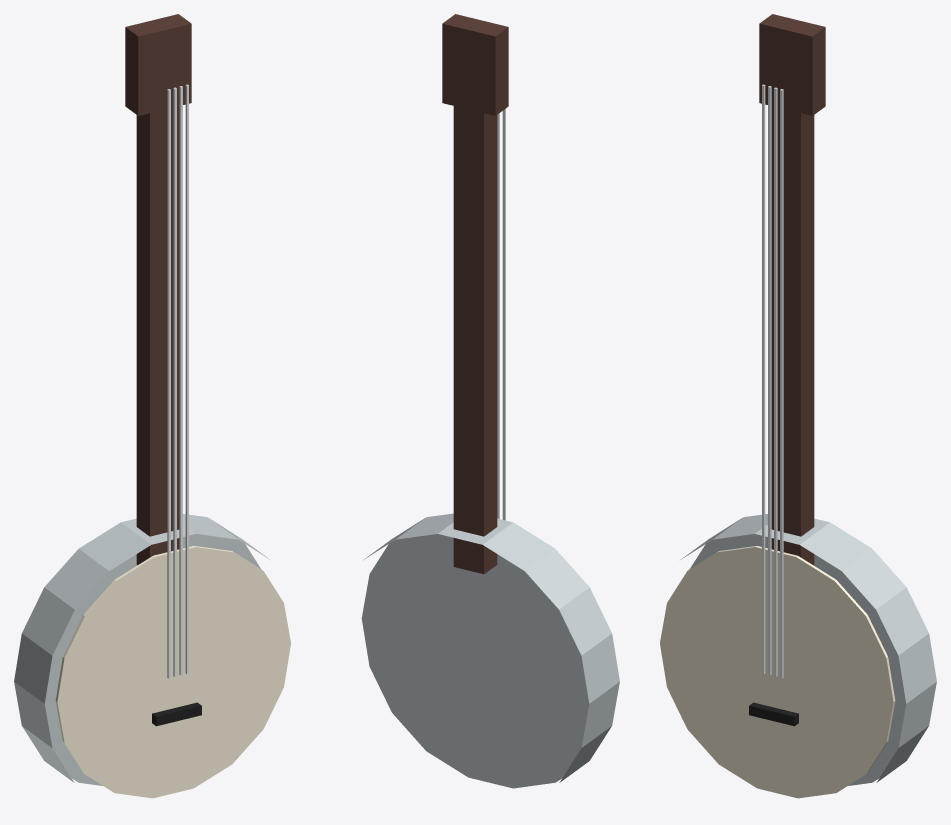
Rendered from banjo.glb.
3 views of the same model, side by side, from view 1: azimuth 30°, elevation 25°; view 2: azimuth 150°, elevation 25°; view 3: azimuth 330°, elevation 25° (orthographic).
Parts seen in each view (by area): view 1: banjo; view 2: banjo; view 3: banjo.
Boxes of the visible parts, bbox=[...] form: banjo: bbox=[14, 14, 290, 798]; banjo: bbox=[361, 14, 619, 788]; banjo: bbox=[660, 14, 936, 798].
Bounding box in the file's own units: 0.34 × 0.9674 × 0.082.
